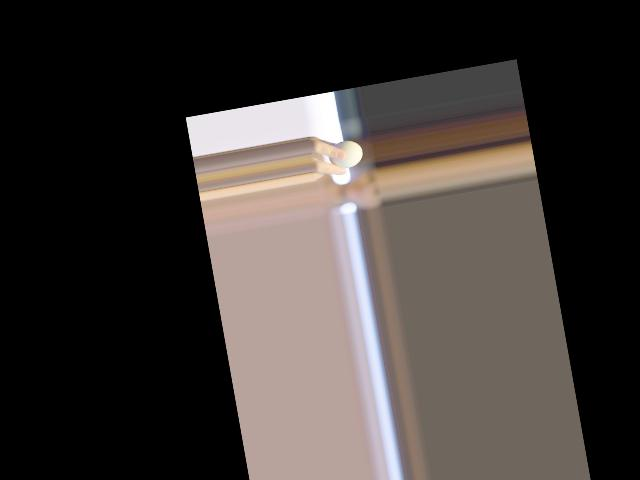egg: (326, 139, 364, 171)
